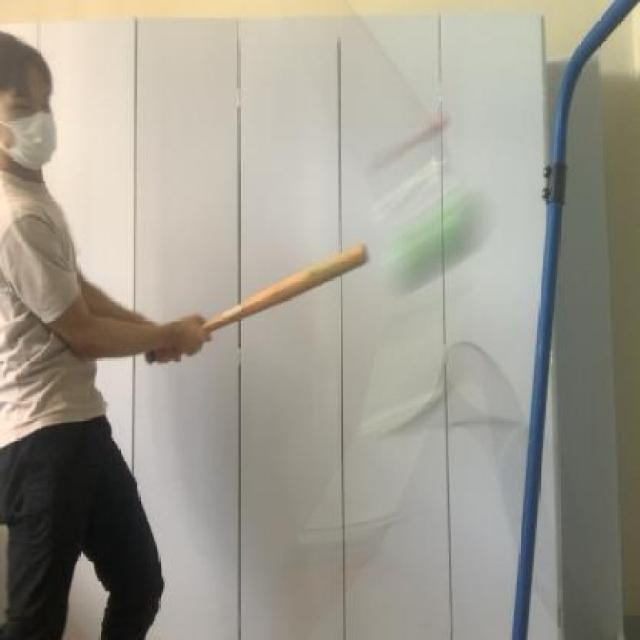baseball: (373, 168, 505, 315)
